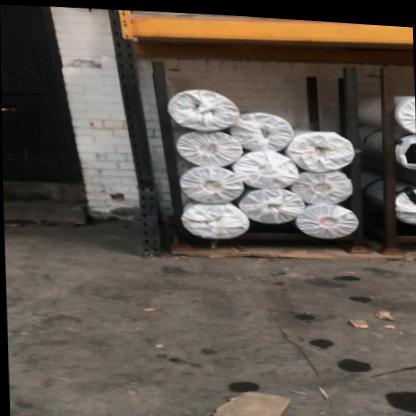vertical_damage: (129, 166, 163, 207)
